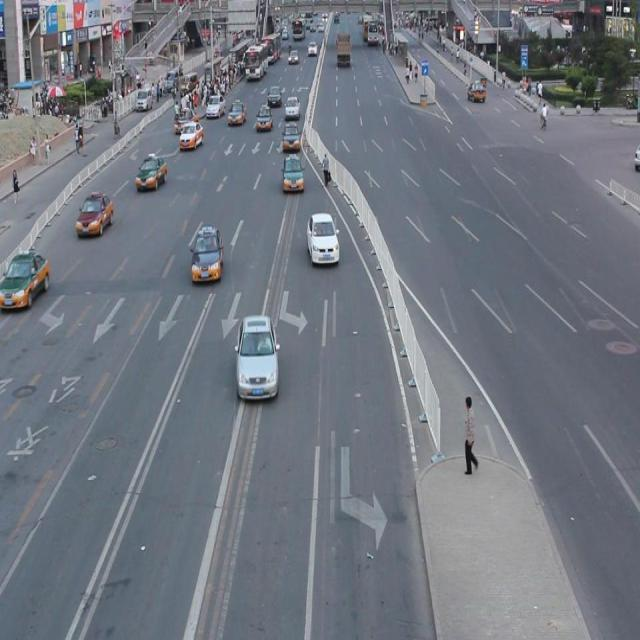car: (234, 311, 279, 400), (0, 247, 50, 310), (189, 226, 224, 284), (305, 210, 340, 265), (76, 192, 115, 237), (135, 152, 168, 192), (280, 155, 304, 195)
